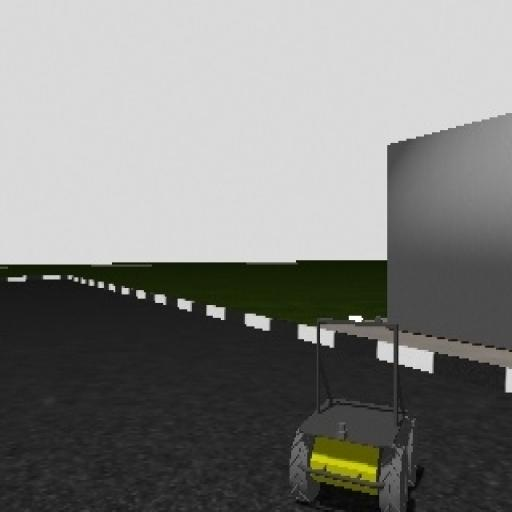huskya200: (287, 308, 421, 512)
